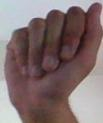A: (1, 1, 103, 123)
